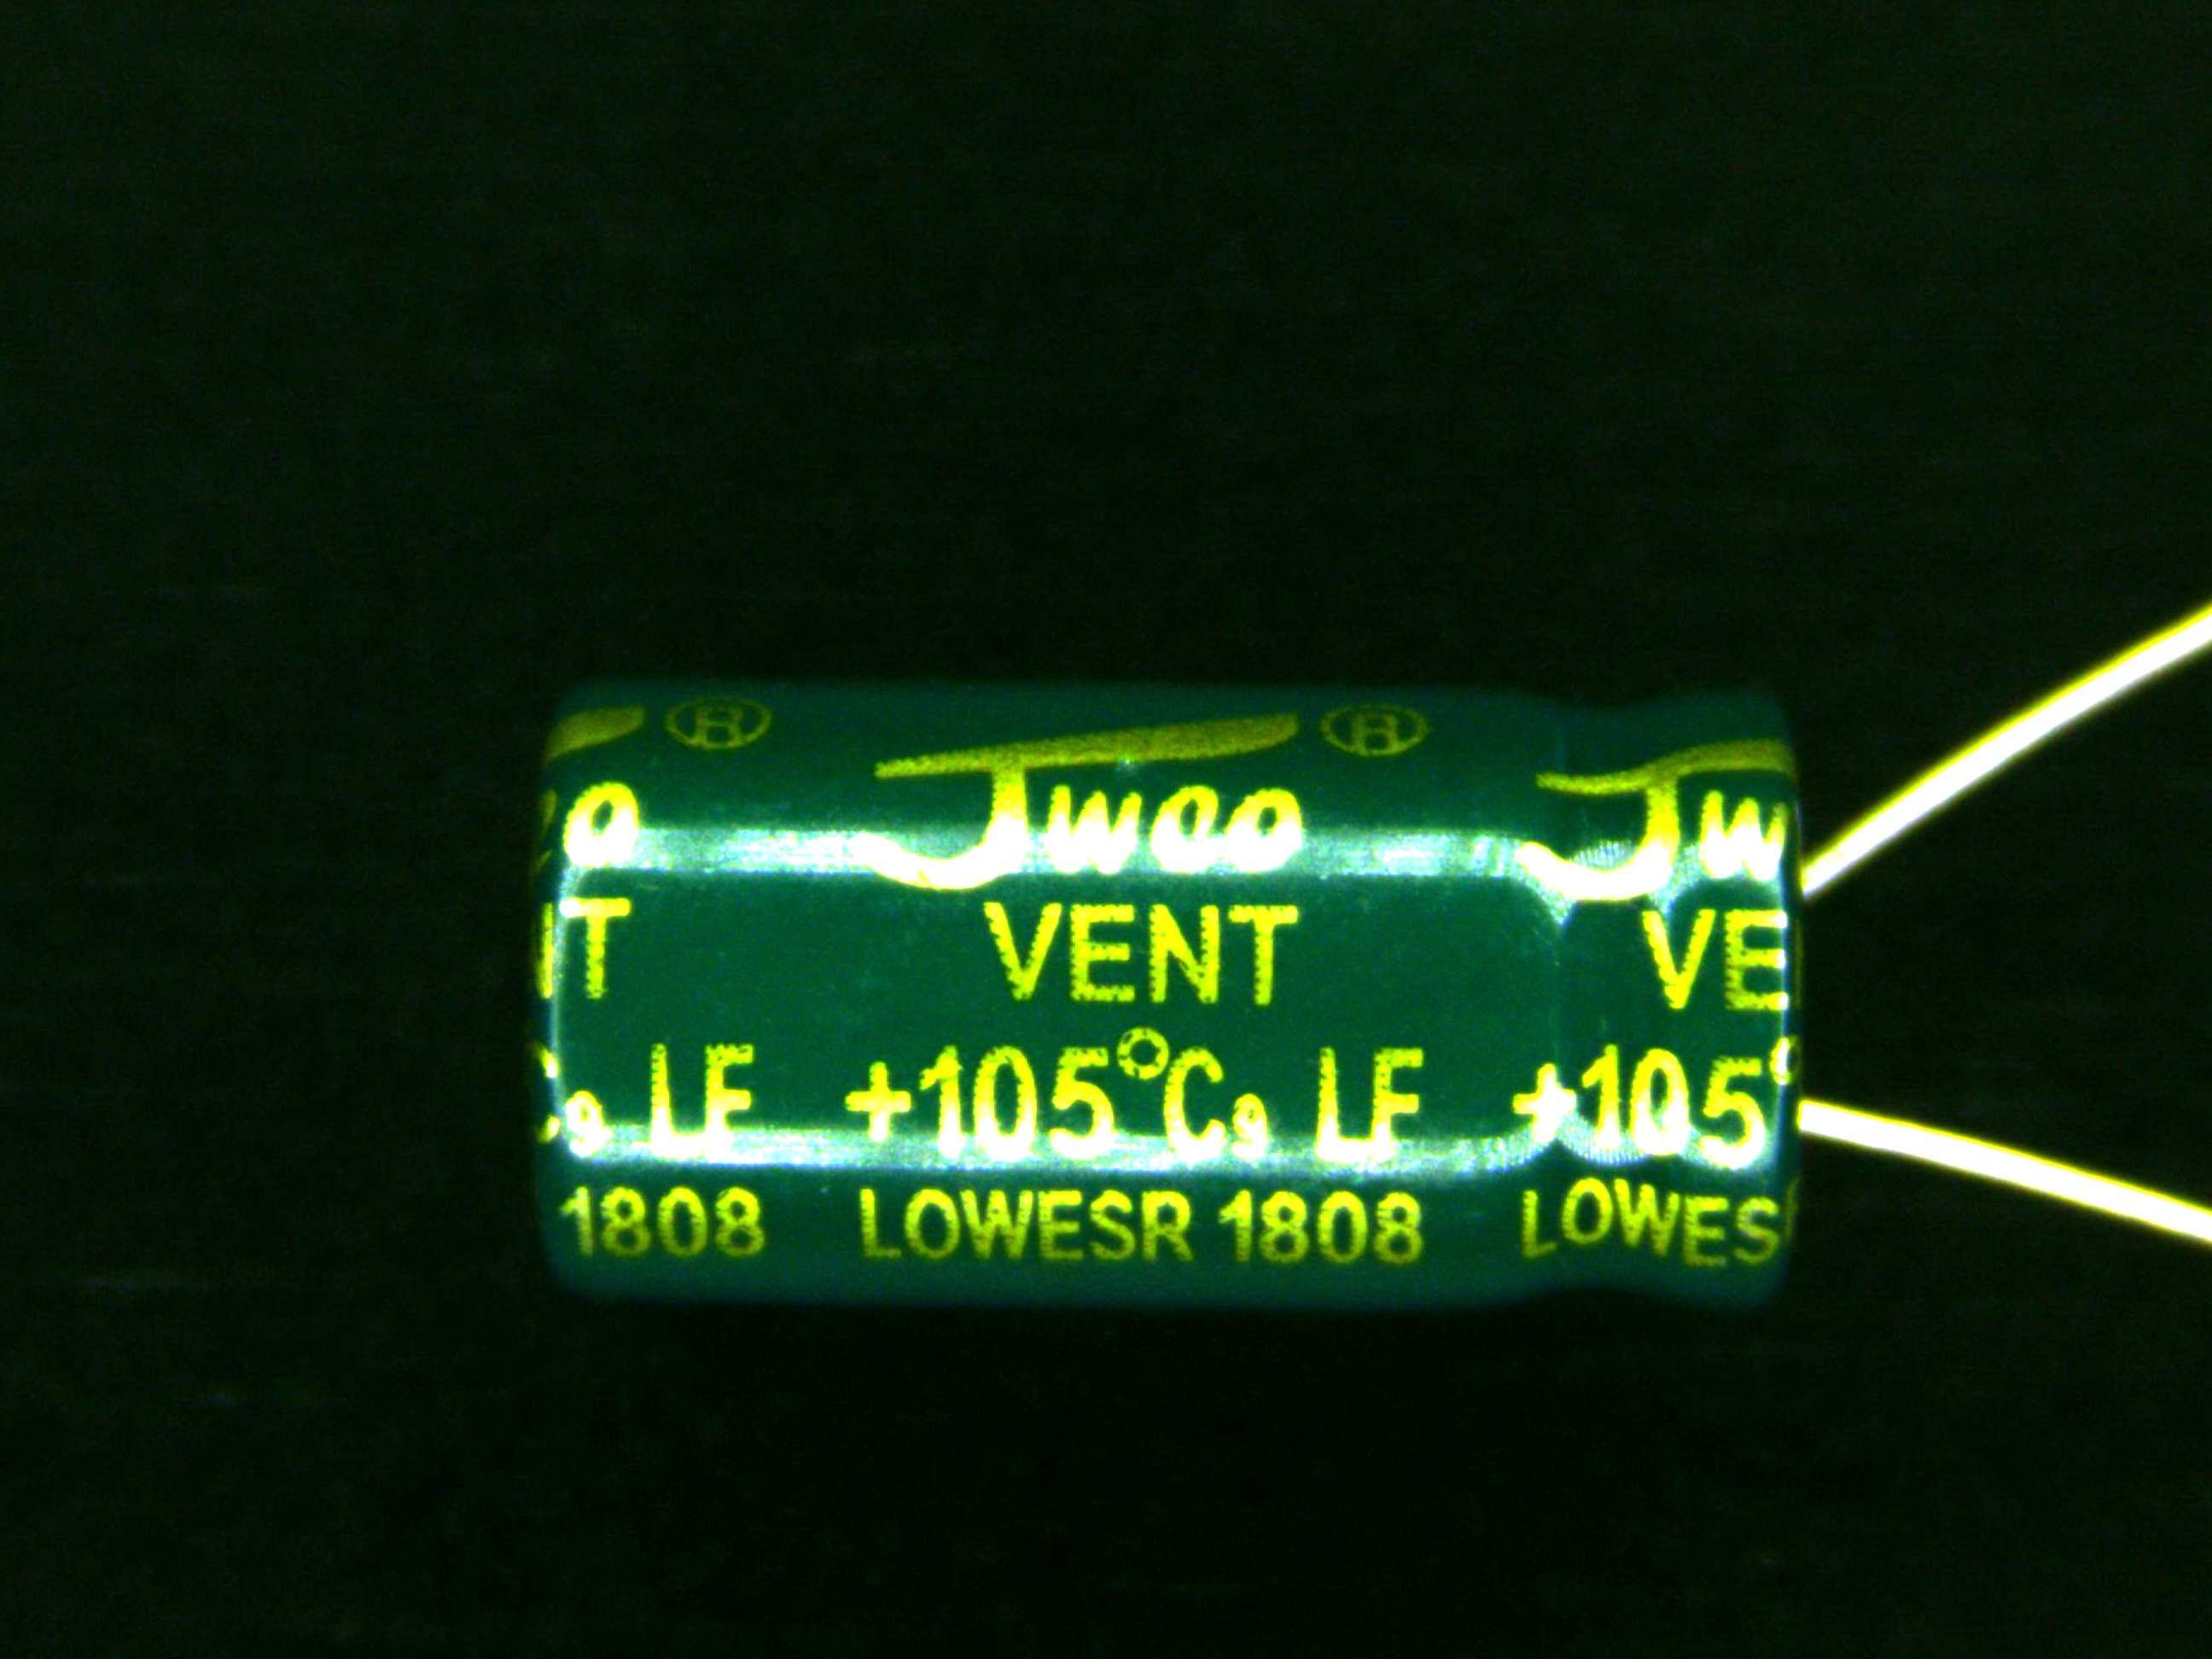c1: (531, 674, 2062, 1330)
